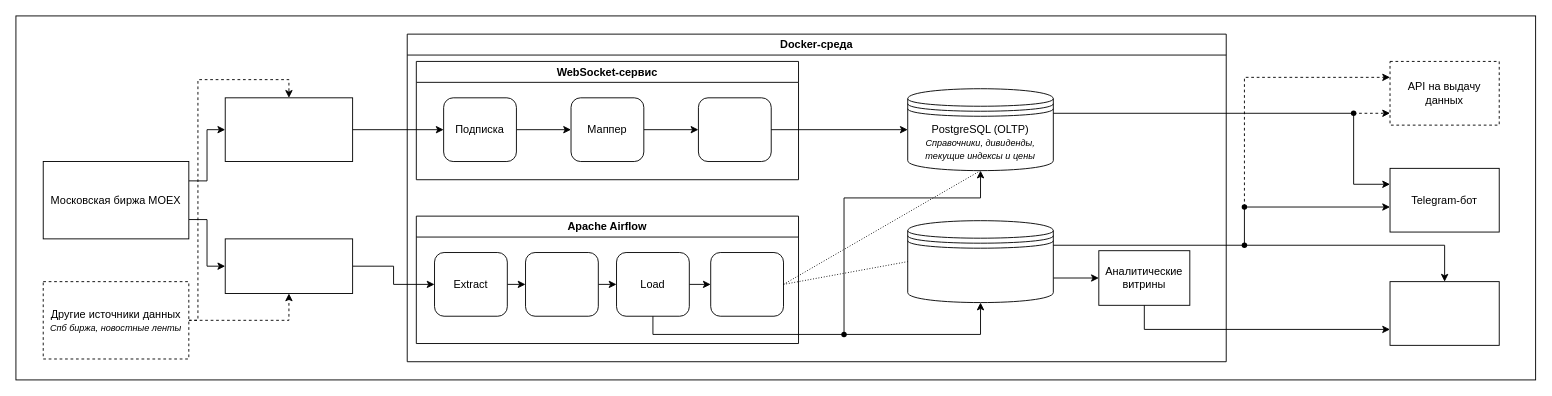
Image size: 1552x396. Some labels were removed from this diagram. The centre of each missing label's shape, as x and y in pixels:
"ClickHouse (OLAP) Свечи, аггрегаты, история" goes at (x=980, y=261).
"REST API исторические данные" goes at (x=288, y=265).
"Transform" goes at (x=561, y=284).
"WebSockets real-time" goes at (x=288, y=129).
"Дашборды" goes at (x=1444, y=313).
"Запись в БД" goes at (x=734, y=129).
"Контроль качества" goes at (x=747, y=284).
